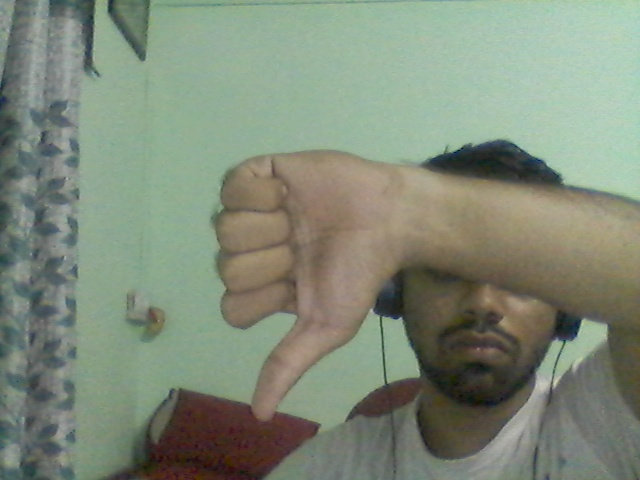No: (175, 107, 498, 446)
